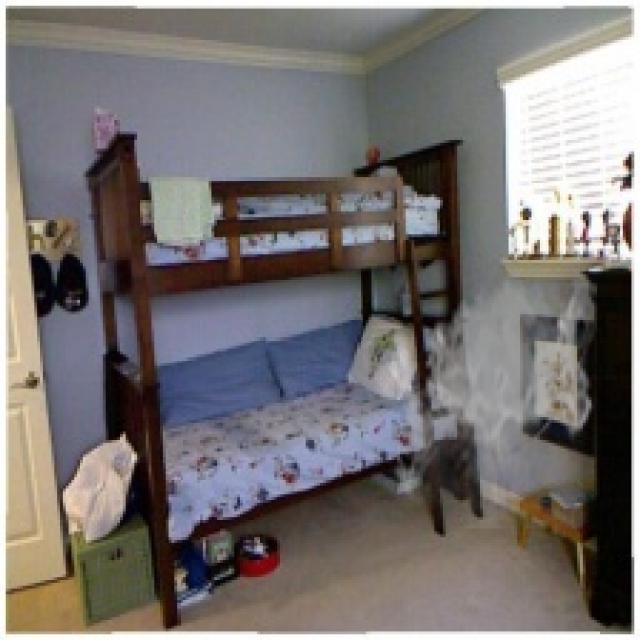Smoke: (388, 268, 598, 528)
